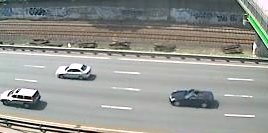car: (165, 85, 216, 111), (1, 85, 43, 110), (55, 61, 97, 82)
